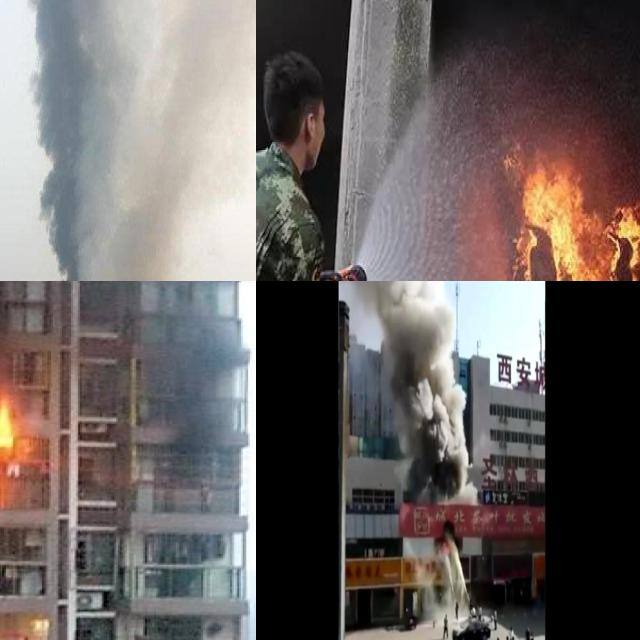fire: (505, 148, 640, 281)
smoke: (20, 0, 256, 281), (338, 281, 472, 503), (445, 0, 640, 148)
